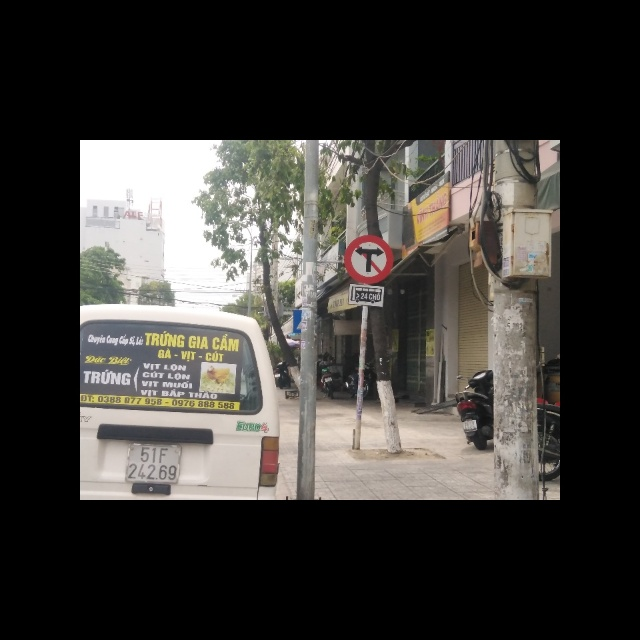Cấm rẽ trái và rẽ phải: (344, 235, 394, 285)
